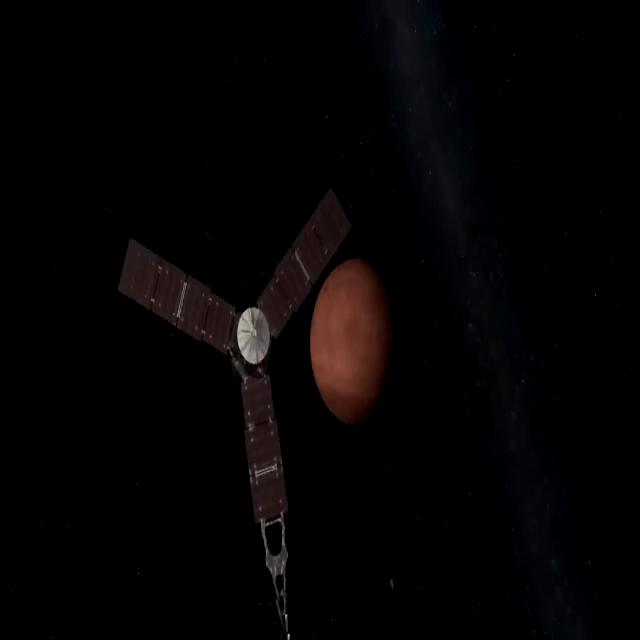medium_debris: (95, 72, 368, 640)
